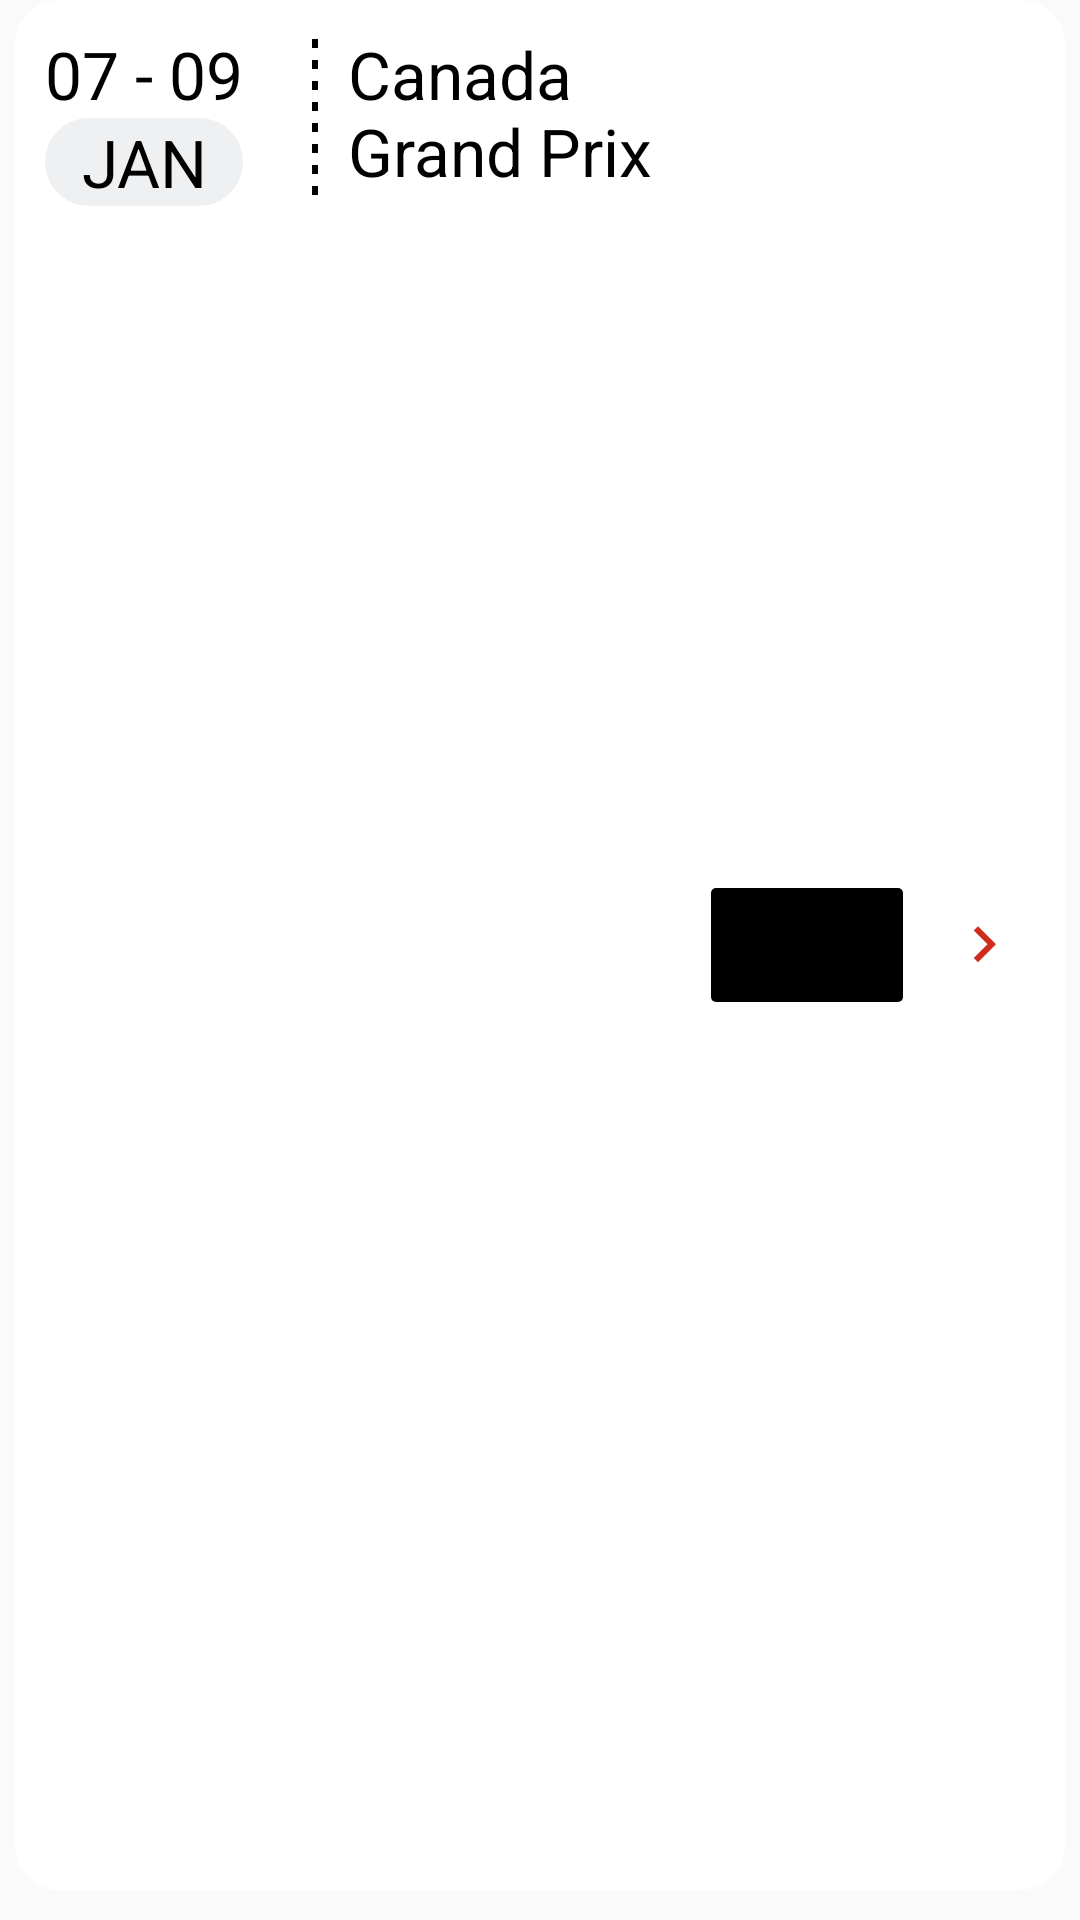

Named icons in this screenshot (1080 × 1920) and their bounding boxes, {"left": x1, "top": y1, "right": x2, "bottom": y2}:
keyboard arrow right: {"left": 974, "top": 926, "right": 996, "bottom": 962}
